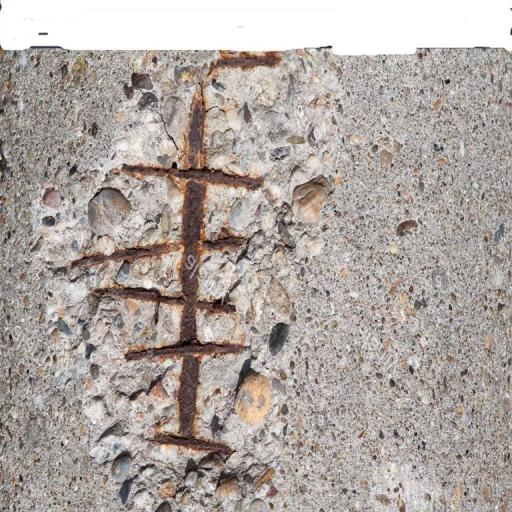spalling: (30, 56, 363, 495)
